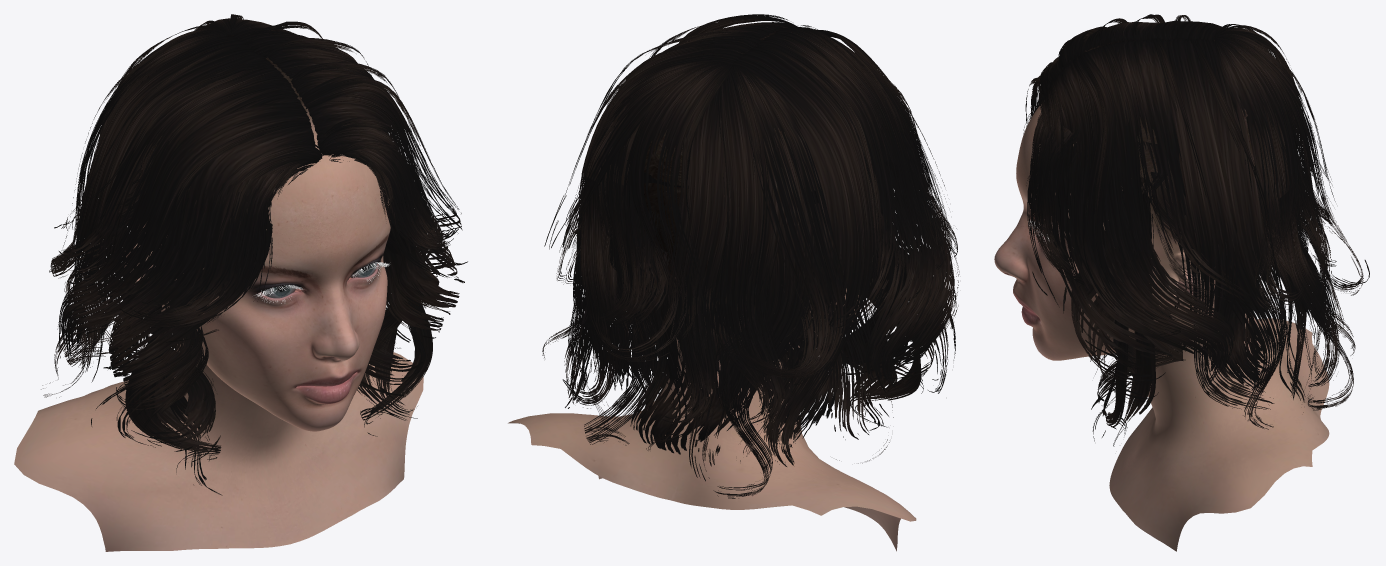
File: angelica.glb
The picture shows the model from 3 angles, left to right: view 1: azimuth 30°, elevation 25°; view 2: azimuth 150°, elevation 25°; view 3: azimuth 270°, elevation 25°; orthographic projection. The views are drawn at different scales.
Visible parts, largest first — view 1: Hair, Head; view 2: Hair, Head; view 3: Hair, Head.
Part boxes in pixels (x1=…): Hair: x1=41, y1=14, x2=467, y2=495; Head: x1=14, y1=57, x2=423, y2=551; Hair: x1=542, y1=14, x2=959, y2=498; Head: x1=508, y1=52, x2=916, y2=551; Hair: x1=1023, y1=14, x2=1369, y2=446; Head: x1=994, y1=104, x2=1329, y2=551.
Size of what is drawn, in the model's own units: 171 by 193 by 146.
5 materials, 4 textured.
